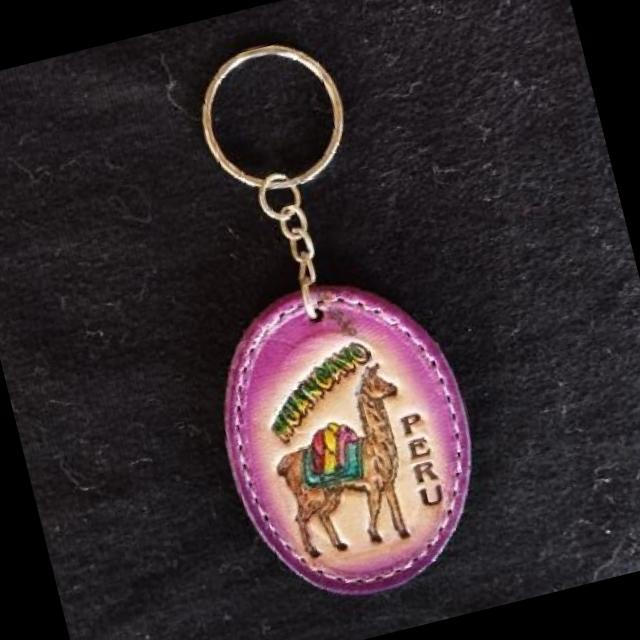Llavero: (191, 256, 503, 621)
